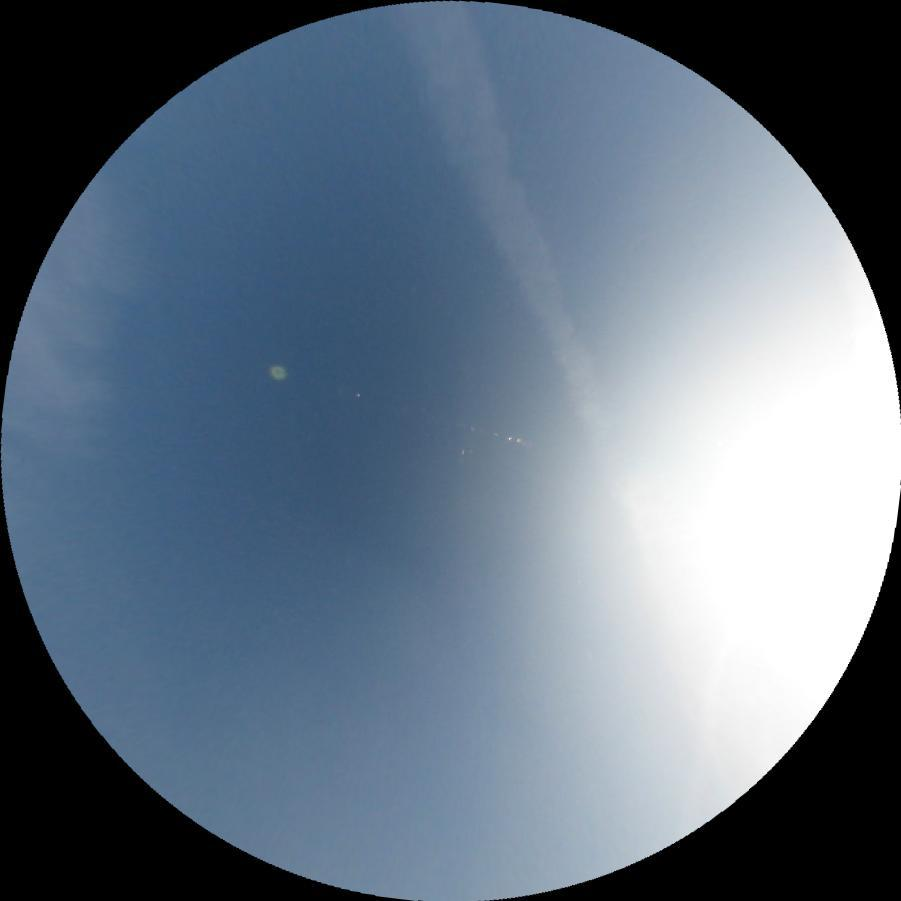contrail veryold: (389, 0, 658, 550)
sun: (694, 382, 901, 606)
